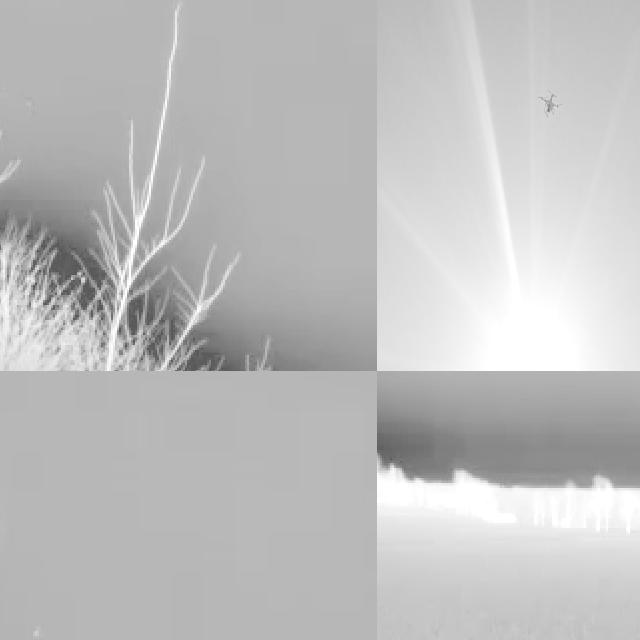0: (26, 621, 48, 640), (0, 72, 8, 105)
drone: (537, 84, 560, 123)
